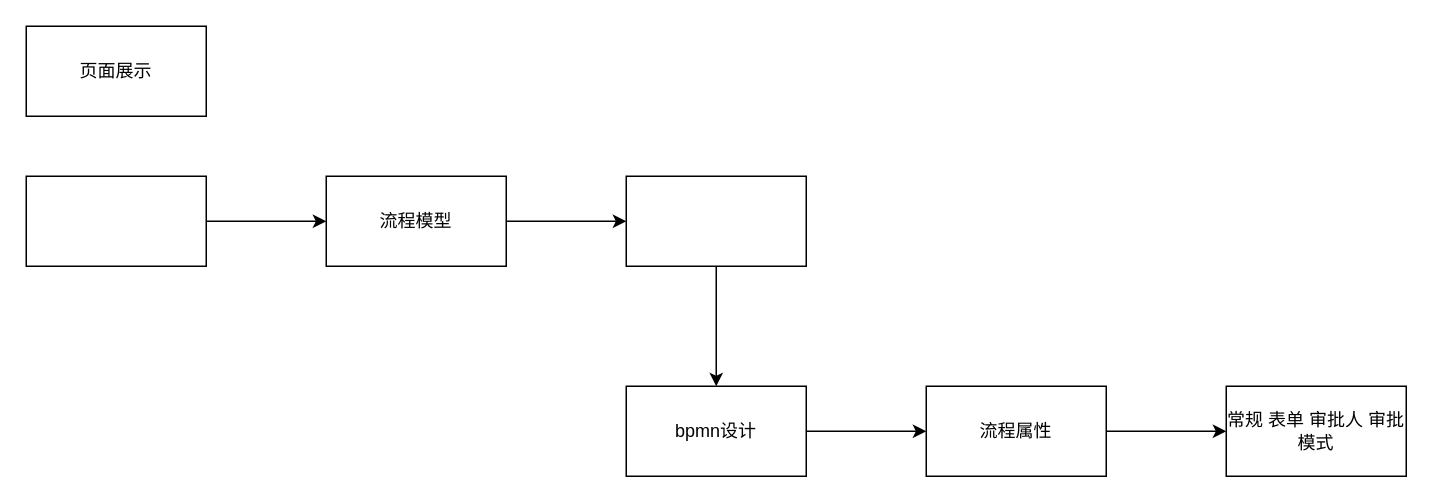
Some shapes in this 1433 by 503 pixel diagram are drawn without their labels. Each missing label, with the box of its shape:
流程设计: (625, 175, 806, 266)
菜单管理: (25, 175, 206, 266)
